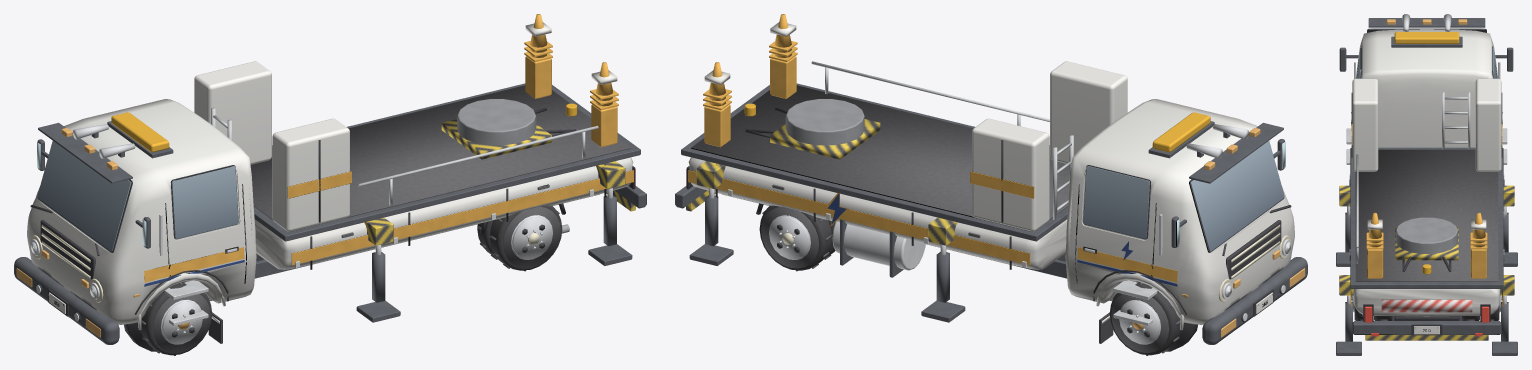
File: Energia_BucketTruck.fbx
3 views of the same model, side by side, from view 1: azimuth 30°, elevation 25°; view 2: azimuth 150°, elevation 25°; view 3: azimuth 270°, elevation 25° (orthographic). The views are drawn at different scales.
Visible parts, largest first — view 1: Energia_BucketTruck; view 2: Energia_BucketTruck; view 3: Energia_BucketTruck.
Boxes of the visible parts, x1,y1,x2,y2 form: Energia_BucketTruck: (14, 14, 646, 355); Energia_BucketTruck: (675, 14, 1307, 355); Energia_BucketTruck: (1336, 14, 1517, 355).
Bounding box in the file's own units: 7.68 × 2.7 × 2.8.
Materials: 1 (1 with a texture image).
